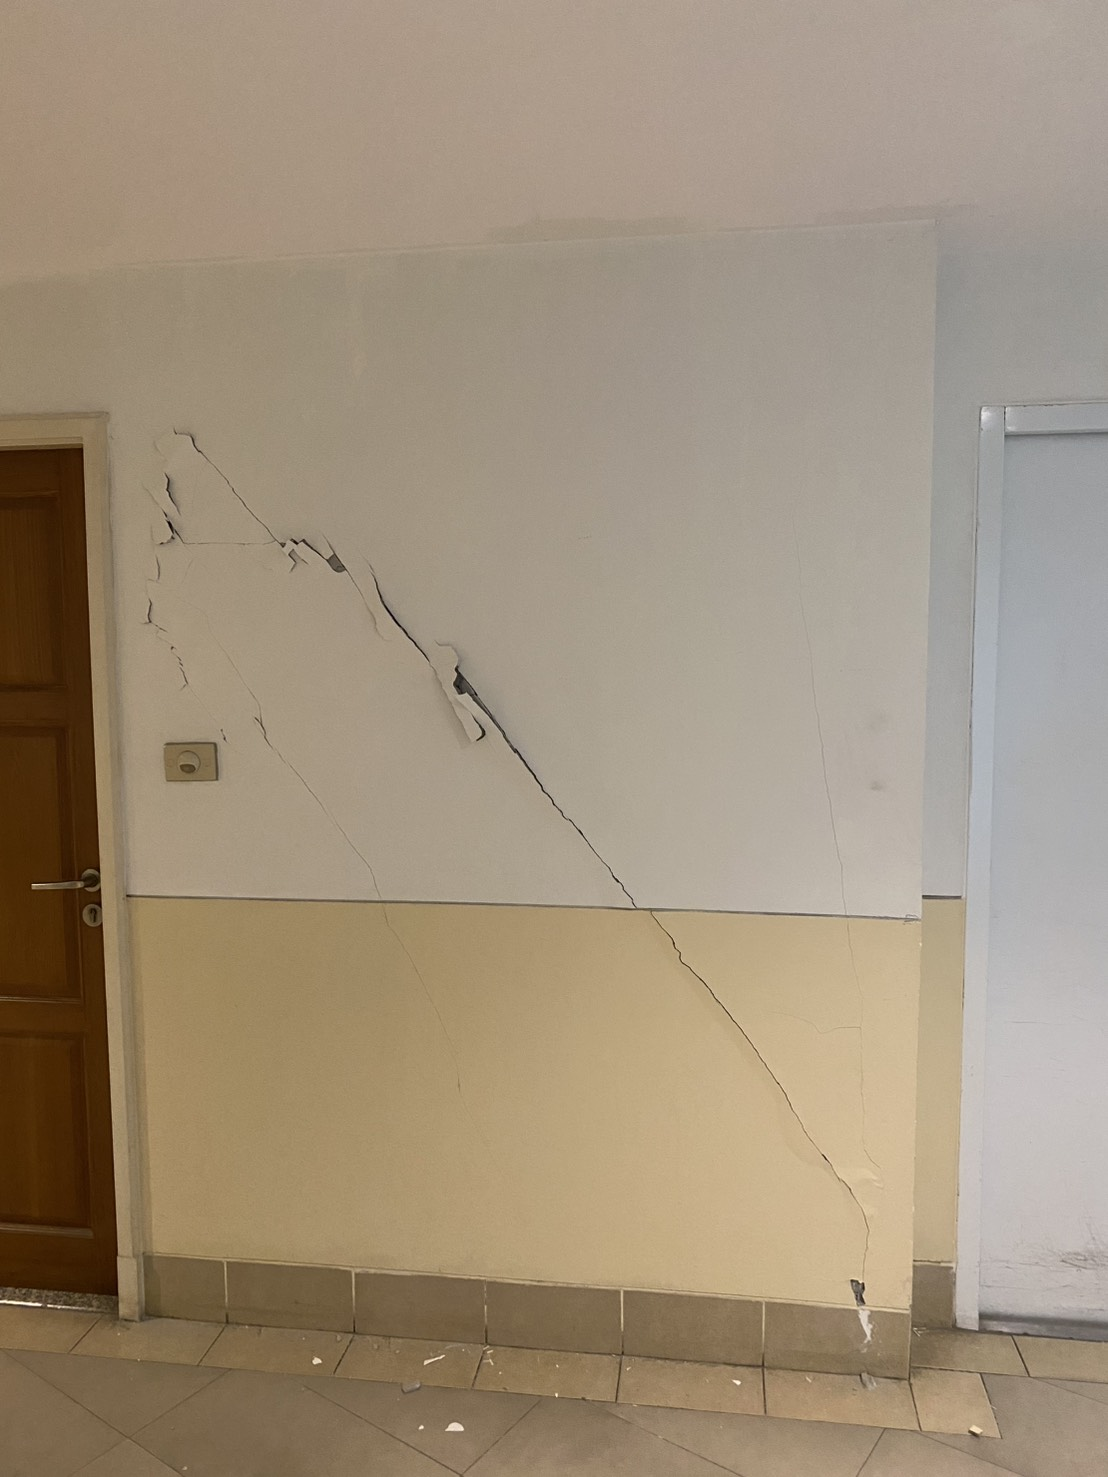High: (133, 410, 903, 1352)
